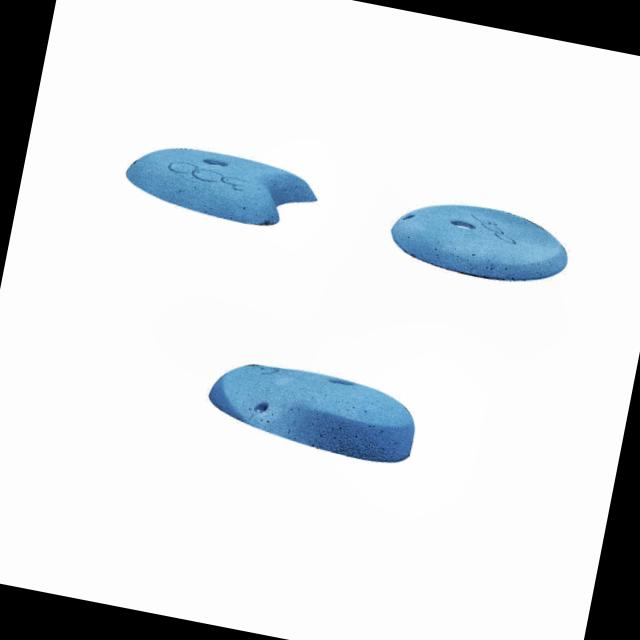Hold: (198, 352, 428, 473), (112, 132, 326, 235), (383, 188, 577, 290)
